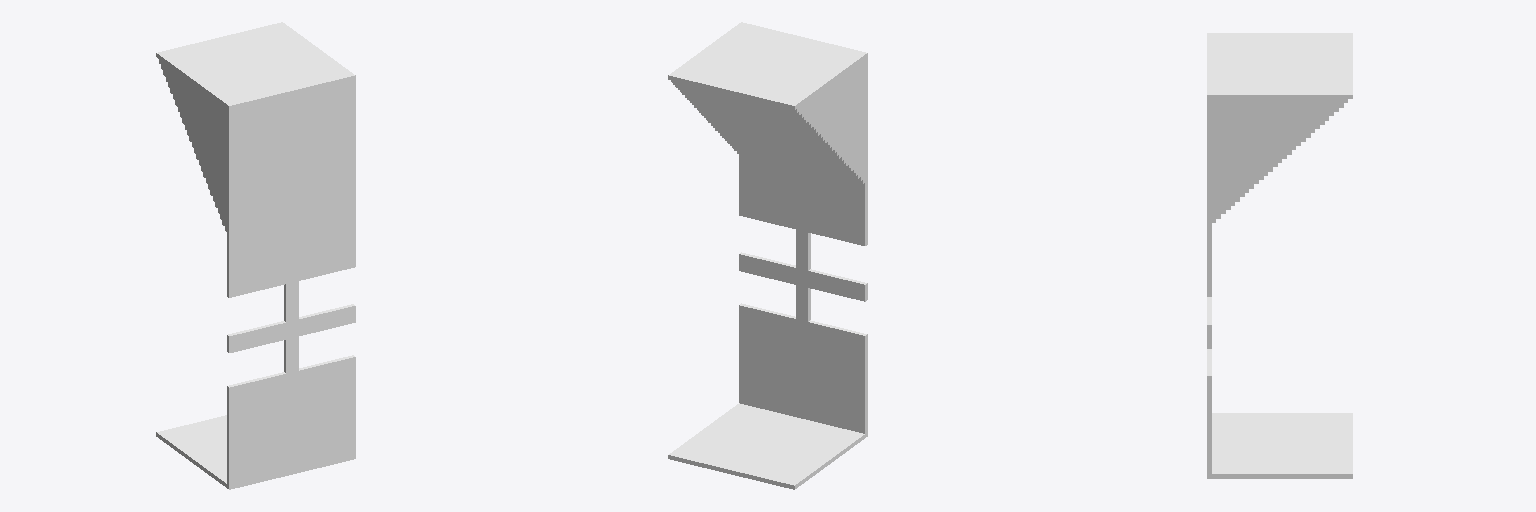
The model's file is WindowDer.obj.
3 renders of one model, left to right at view 1: azimuth 30°, elevation 25°; view 2: azimuth 150°, elevation 25°; view 3: azimuth 270°, elevation 25°, orthographic.
Parts seen in each view (by area): view 1: object 1; view 2: object 1; view 3: object 1.
Boxes of the visible parts, x1=… form: object 1: x1=156, y1=22, x2=355, y2=489; object 1: x1=668, y1=22, x2=867, y2=489; object 1: x1=1207, y1=33, x2=1352, y2=478.
Bounding box in the file's own units: 3.1 × 9 × 3.1.